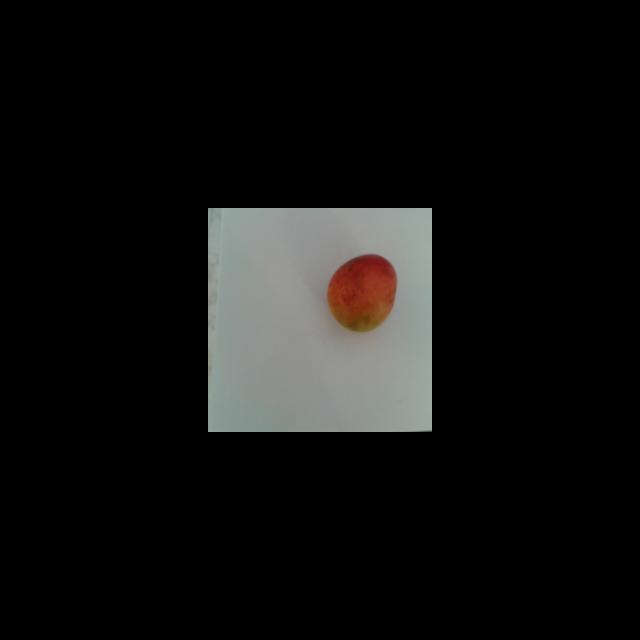Mango: (326, 253, 397, 332)
